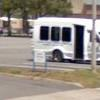Bus: (28, 12, 99, 65)
